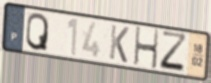1: (67, 18, 79, 57)
4: (80, 21, 103, 61)
H: (133, 25, 160, 71)
K: (108, 23, 131, 65)
Q: (24, 12, 50, 53)
Z: (159, 29, 190, 75)
